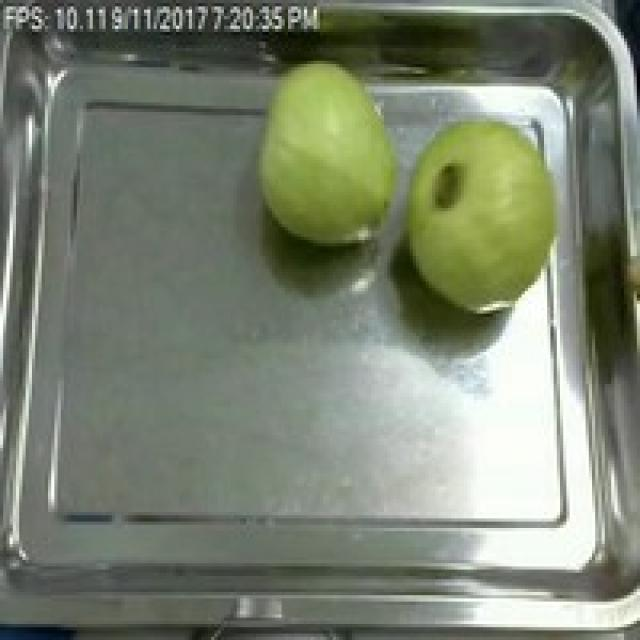Fruit: (384, 100, 589, 326), (243, 51, 416, 256)
